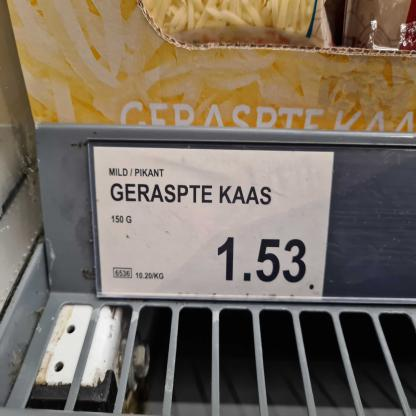prtg: (95, 148, 336, 303)
